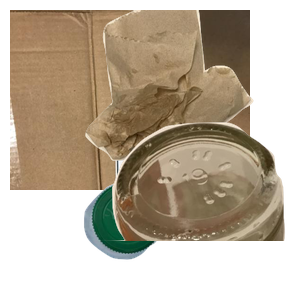cardboard: (10, 10, 250, 190)
glass: (89, 120, 300, 300)
plastic: (81, 179, 239, 300)
trash: (83, 10, 300, 163)
